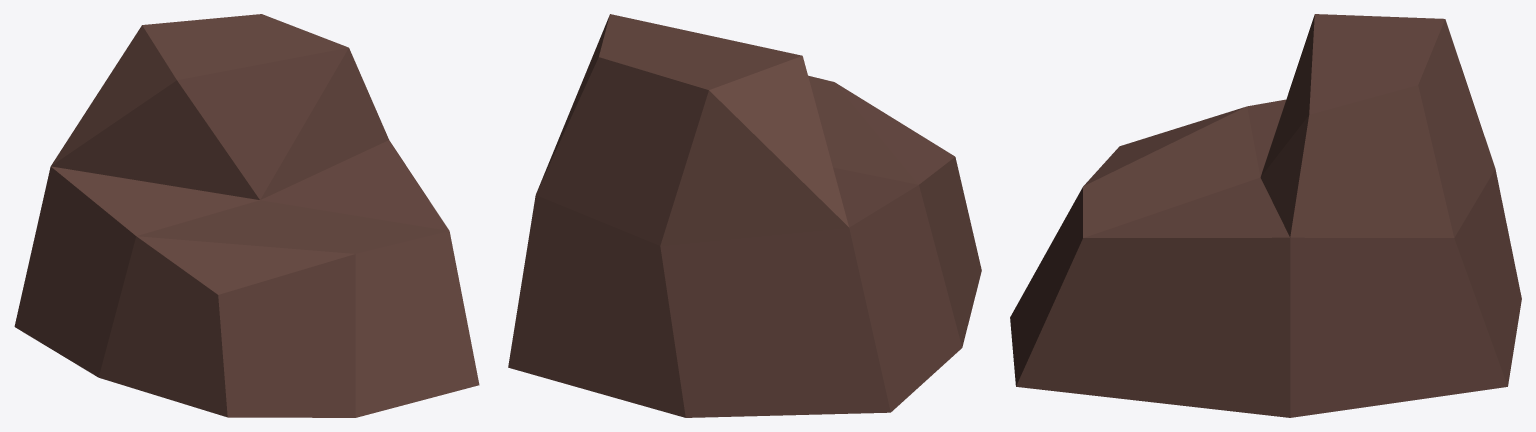
The model's file is FlatRock-B10.fbx.
The picture shows the model from 3 angles, left to right: view 1: azimuth 30°, elevation 25°; view 2: azimuth 150°, elevation 25°; view 3: azimuth 270°, elevation 25°; orthographic projection. The views are drawn at different scales.
Visible parts, largest first — view 1: FlatRock-B10; view 2: FlatRock-B10; view 3: FlatRock-B10.
Part boxes in pixels (x1,y1,x2,y2): FlatRock-B10: (14, 14, 479, 417); FlatRock-B10: (508, 14, 981, 417); FlatRock-B10: (1010, 14, 1521, 417).
Size of the model in its own units: 146 by 104 by 167.
